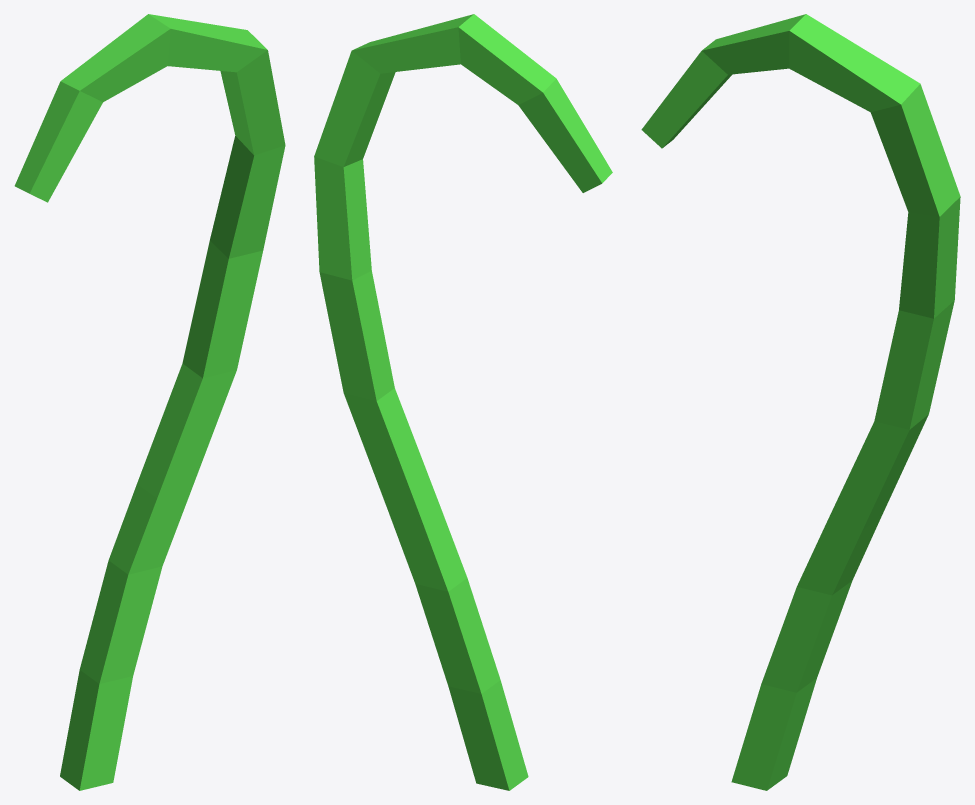
The picture shows the model from 3 angles, left to right: view 1: azimuth 30°, elevation 25°; view 2: azimuth 150°, elevation 25°; view 3: azimuth 330°, elevation 25°; orthographic projection. The views are drawn at different scales.
Visible parts, largest first — view 1: root03; view 2: root03; view 3: root03.
Part boxes in pixels (bbox=[...]): root03: bbox=[14, 14, 285, 790]; root03: bbox=[314, 14, 612, 790]; root03: bbox=[641, 14, 960, 790].
Size of the model in its own units: 30.25 by 79.78 by 8.67.
